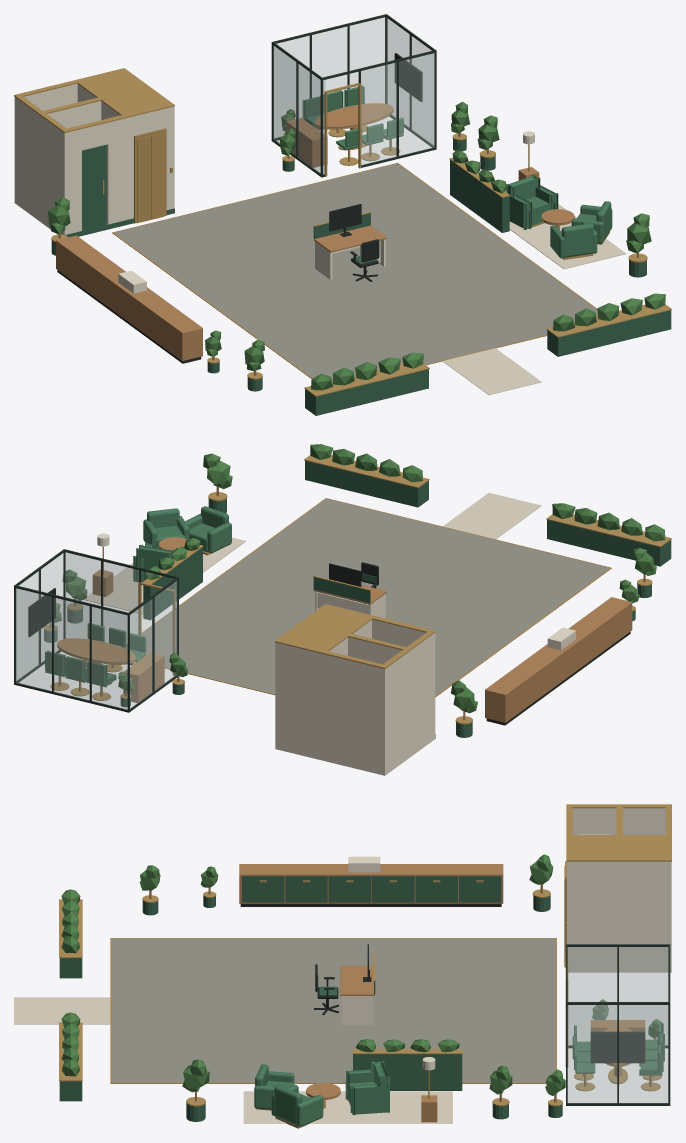
File: command-center-floor4.glb
3 renders of one model, top to bottom at view 1: azimuth 30°, elevation 25°; view 2: azimuth 150°, elevation 25°; view 3: azimuth 270°, elevation 25°, orthographic. The views are drawn at different scales.
Visible parts, largest first — view 1: static_carpet, static_glass, cutaway_back_cream, static_wood, static_green, static_leaf, cutaway_back_brass, static_velvet, static_brass, static_stone, static_frame, cutaway_back_green (+5 smaller); view 2: static_carpet, cutaway_back_cream, static_glass, static_wood, static_green, static_leaf, static_velvet, static_brass, static_stone, static_frame, cutaway_back_brass, static_dark (+4 smaller); view 3: static_carpet, static_glass, cutaway_back_cream, static_green, static_velvet, static_stone, static_leaf, static_wood, static_brass, cutaway_back_brass, static_dark, static_frame (+4 smaller).
Part boxes in pixels (x1,y1,x2,y2): static_carpet: (114,163,597,380); static_glass: (273,17,434,174); cutaway_back_cream: (14,83,174,234); static_wood: (56,103,638,375); static_green: (51,138,671,415); static_leaf: (48,101,665,390); cutaway_back_brass: (14,68,174,223); static_velvet: (302,85,612,258); static_brass: (51,83,671,396); static_stone: (442,190,626,395); static_frame: (271,14,436,177); cutaway_back_green: (65,144,174,237); static_carpet: (125,499,609,695); cutaway_back_cream: (275,619,435,775); static_glass: (16,552,177,709); static_wood: (50,486,645,722); static_green: (44,460,671,737); static_leaf: (54,444,665,713); static_velvet: (45,506,231,687); static_brass: (44,455,671,724); static_stone: (83,492,541,614); static_frame: (14,549,178,712); cutaway_back_brass: (274,604,435,668); static_dark: (28,588,630,725); static_carpet: (112,938,555,1082); static_glass: (568,947,668,1103); cutaway_back_cream: (567,808,671,972); static_green: (59,876,562,1121); static_velvet: (254,1023,664,1126); static_stone: (14,997,452,1123); static_leaf: (61,854,661,1095); static_wood: (149,864,656,1122); static_brass: (59,880,661,1128); cutaway_back_brass: (564,804,671,968); static_dark: (240,904,645,1063); static_frame: (566,944,670,1105).
Size of the model in its own units: 12.14 by 2.73 by 14.46.
